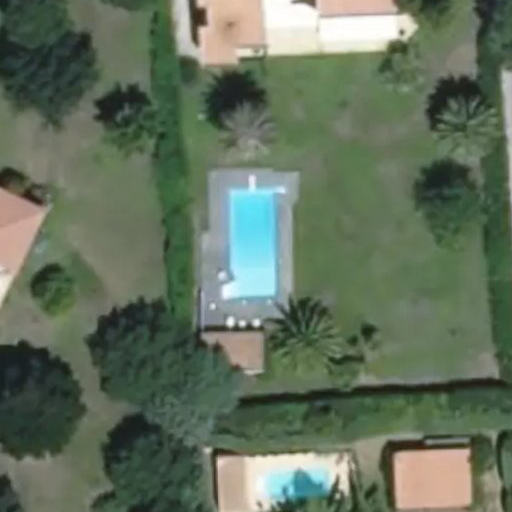pool: (234, 188, 277, 295)
